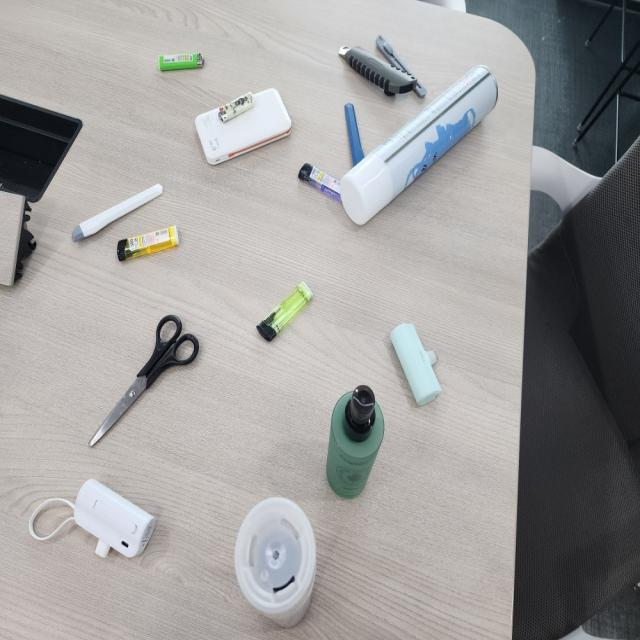cutter: (70, 180, 166, 246), (338, 40, 421, 103), (376, 34, 430, 103), (344, 99, 368, 168)
lighter: (258, 284, 314, 344), (116, 224, 181, 263), (300, 162, 348, 203), (216, 91, 254, 124), (159, 51, 209, 72)
portable_charger: (192, 88, 292, 166), (72, 476, 157, 563), (389, 322, 443, 408)
scissors: (87, 313, 200, 452)
spray: (340, 64, 500, 224), (326, 382, 386, 503)
